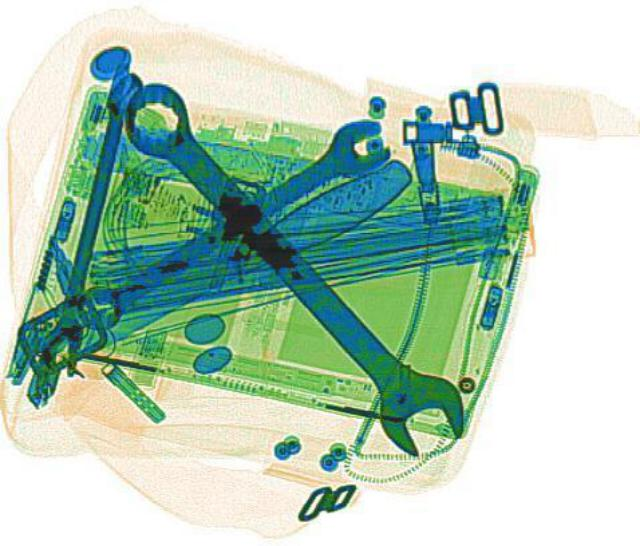Knife: (32, 149, 424, 365)
Wrench: (96, 64, 487, 460), (60, 109, 404, 335)
